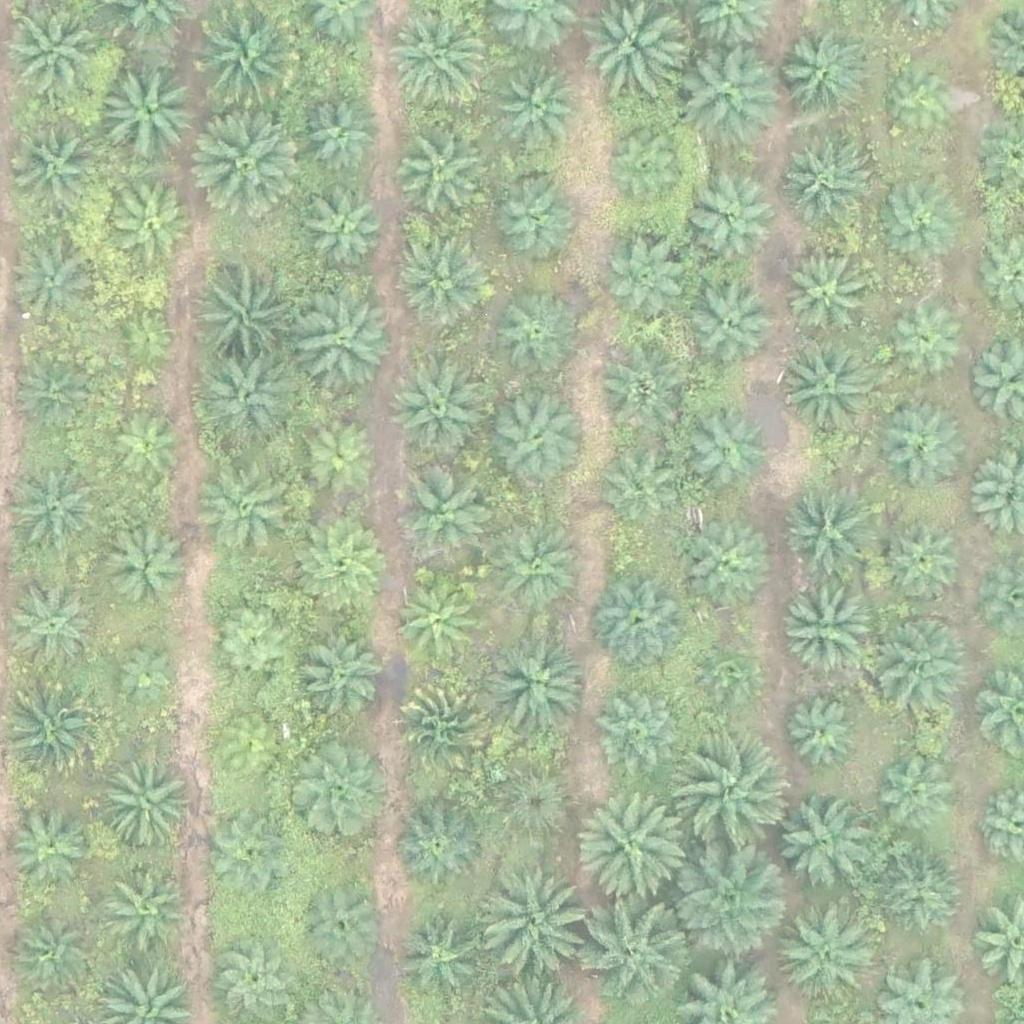Kelapa_Sawit: (476, 870, 589, 984), (671, 847, 784, 960), (582, 893, 695, 1006), (578, 789, 691, 902), (678, 737, 790, 851), (193, 4, 305, 117), (189, 103, 301, 216), (865, 613, 965, 714), (774, 901, 874, 1002), (592, 573, 692, 674), (484, 630, 584, 731), (4, 680, 104, 781), (98, 62, 198, 163), (201, 350, 301, 451), (197, 464, 297, 565), (294, 511, 394, 612), (297, 287, 397, 388), (393, 459, 493, 560), (390, 2, 490, 103), (396, 233, 496, 334), (486, 382, 586, 483), (484, 515, 584, 616), (683, 45, 783, 146), (778, 341, 878, 442), (781, 481, 881, 582), (779, 580, 879, 680), (773, 796, 873, 896), (288, 742, 388, 842), (397, 677, 497, 777), (98, 750, 198, 850), (388, 361, 488, 461), (782, 34, 870, 123), (874, 746, 962, 834), (486, 763, 574, 851), (298, 879, 386, 967), (391, 909, 479, 997), (595, 694, 683, 782), (391, 579, 479, 667), (396, 802, 484, 890), (2, 806, 90, 894), (9, 127, 97, 215), (9, 463, 97, 551), (107, 180, 195, 268), (491, 173, 579, 261), (492, 293, 580, 381), (606, 237, 694, 325), (599, 351, 687, 439), (684, 180, 772, 268), (688, 281, 776, 369), (680, 410, 768, 498), (782, 140, 870, 228), (209, 600, 297, 688), (11, 241, 98, 330), (298, 188, 385, 277), (494, 59, 581, 148), (877, 851, 964, 939), (291, 630, 378, 718), (205, 812, 292, 900), (107, 860, 194, 948), (13, 909, 100, 997), (13, 577, 100, 665), (3, 347, 90, 435), (102, 524, 189, 612), (200, 286, 287, 374), (201, 713, 288, 801), (299, 410, 386, 498), (302, 93, 389, 181), (396, 131, 483, 219), (597, 446, 684, 534), (600, 128, 687, 216), (687, 526, 774, 614), (785, 254, 872, 342), (880, 518, 967, 606), (880, 400, 967, 488), (887, 296, 974, 384), (875, 173, 962, 261), (885, 67, 960, 143), (784, 696, 859, 772), (112, 302, 187, 378), (109, 405, 184, 481), (110, 637, 185, 712), (695, 640, 757, 703)
